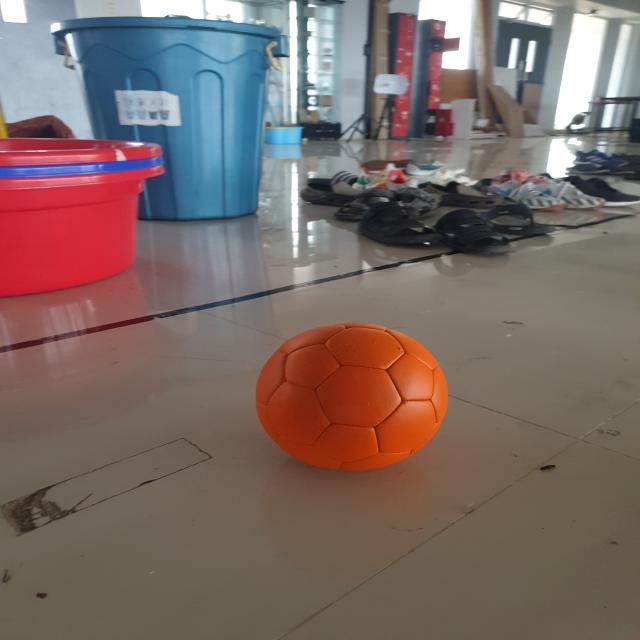bola: (246, 317, 458, 476)
